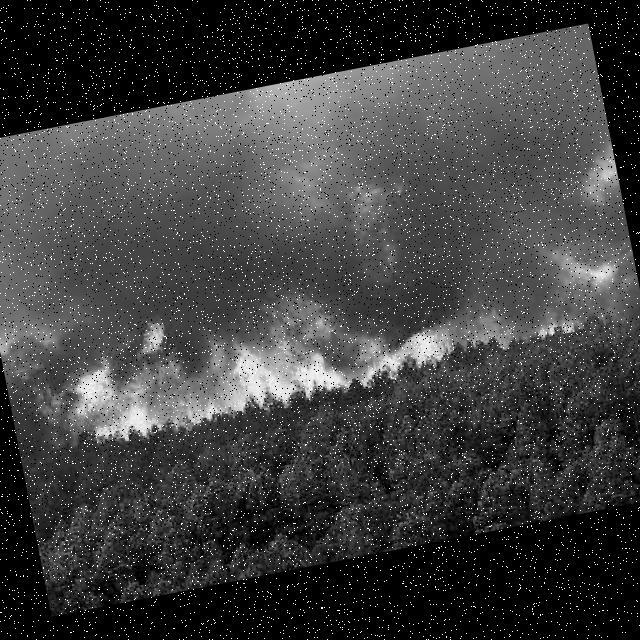Fire: (11, 239, 532, 459), (524, 221, 633, 342)
